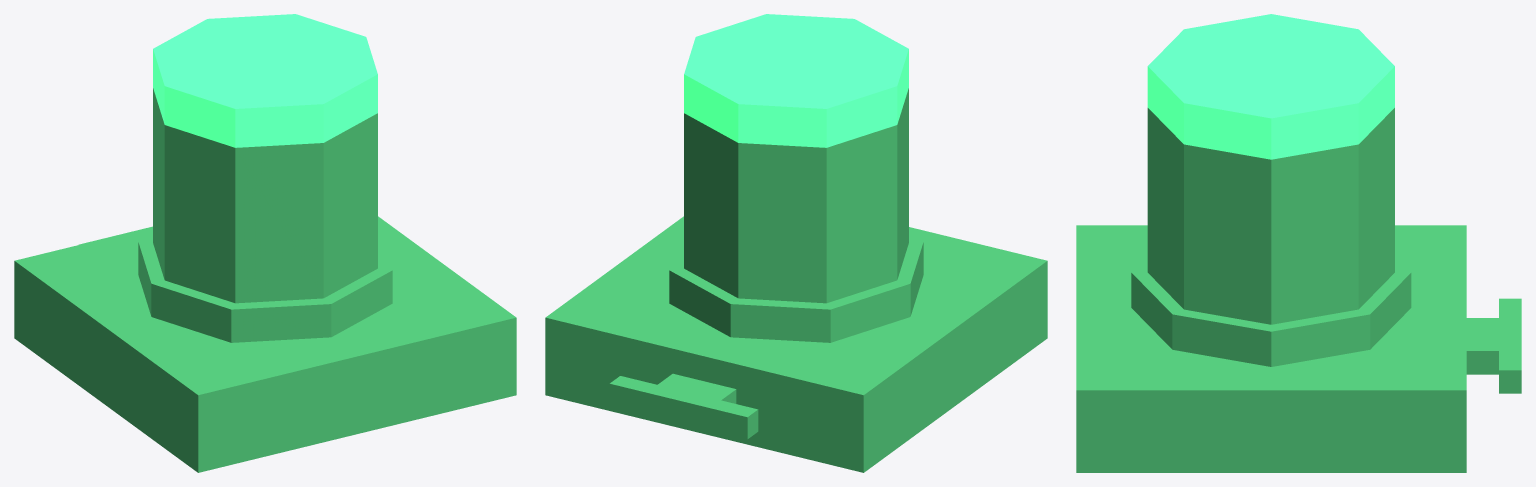
File: SM_EM_Beacon.fbx
3 renders of one model, left to right at view 1: azimuth 30°, elevation 25°; view 2: azimuth 150°, elevation 25°; view 3: azimuth 270°, elevation 25°, orthographic. The views are drawn at different scales.
Parts seen in each view (by area): view 1: SM_EM_Beacon; view 2: SM_EM_Beacon; view 3: SM_EM_Beacon.
Part boxes in pixels (x1,y1,x2,y2): SM_EM_Beacon: [14, 14, 516, 472]; SM_EM_Beacon: [545, 14, 1047, 472]; SM_EM_Beacon: [1076, 14, 1521, 472].
Bounding box in the file's own units: 60 × 68.5 × 55.
